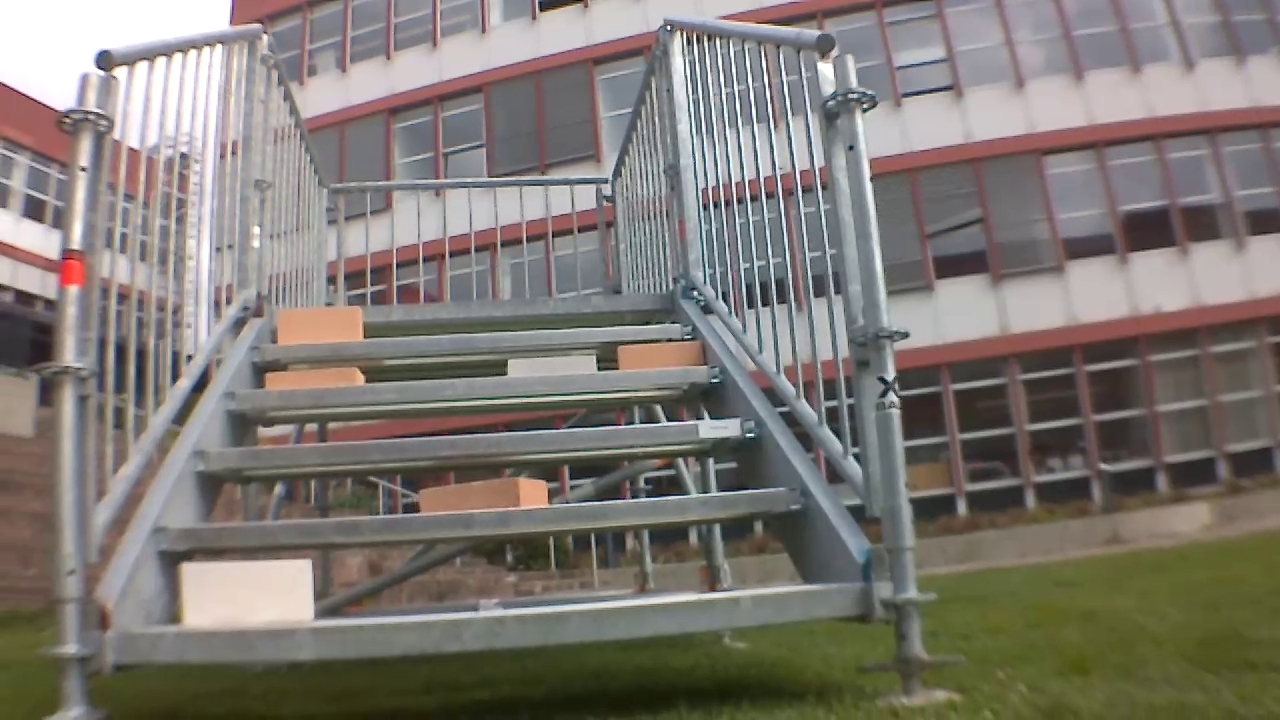brick: (179, 556, 313, 623), (414, 476, 547, 514), (271, 308, 360, 344), (618, 338, 708, 370), (505, 355, 597, 379), (262, 364, 367, 385)
edge: (112, 584, 865, 662), (196, 417, 766, 478), (147, 502, 800, 546), (224, 361, 729, 412), (247, 321, 696, 361), (277, 288, 680, 325)
stairs: (62, 10, 937, 688)
steps: (98, 289, 861, 666)
